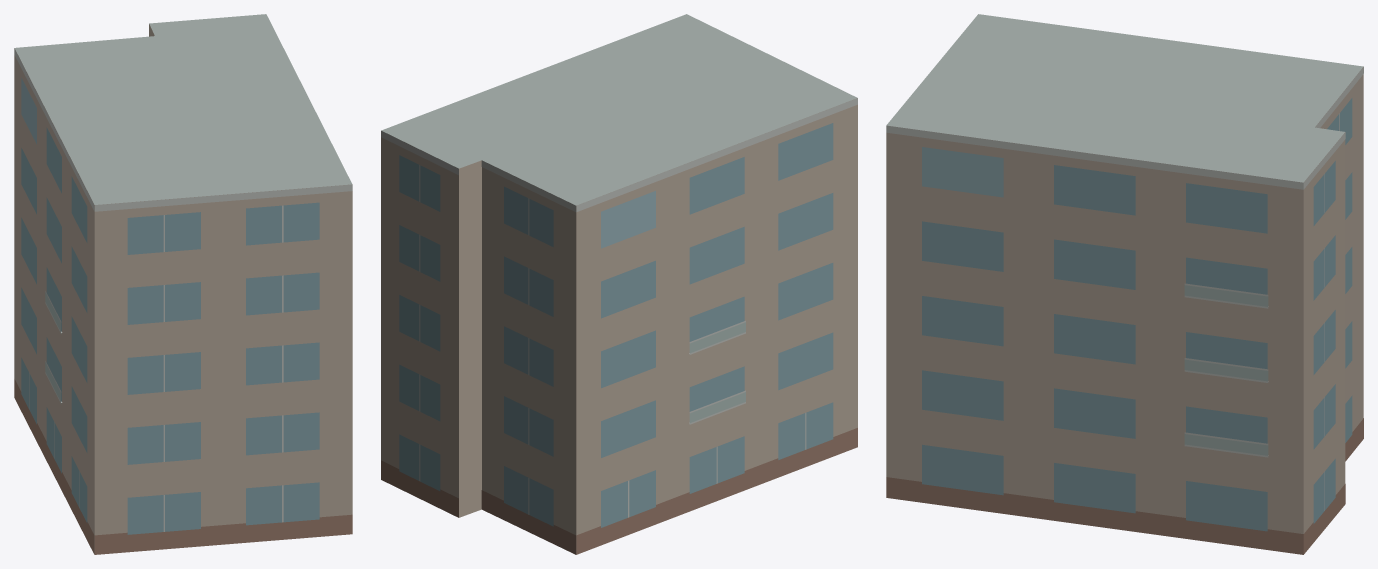
File: survey-upis-32868121.glb
3 views of the same model, side by side, from view 1: azimuth 30°, elevation 25°; view 2: azimuth 150°, elevation 25°; view 3: azimuth 270°, elevation 25° (orthographic). The views are drawn at different scales.
Parts seen in each view (by area): view 1: survey-upis-32868121.tmp; view 2: survey-upis-32868121.tmp; view 3: survey-upis-32868121.tmp.
Part boxes in pixels (left/top/right/bottom): survey-upis-32868121.tmp: left=14, top=14, right=352, bottom=554; survey-upis-32868121.tmp: left=381, top=14, right=857, bottom=554; survey-upis-32868121.tmp: left=886, top=14, right=1363, bottom=554.
Bounding box in the file's own units: 12.35 × 12.7 × 14.78.
